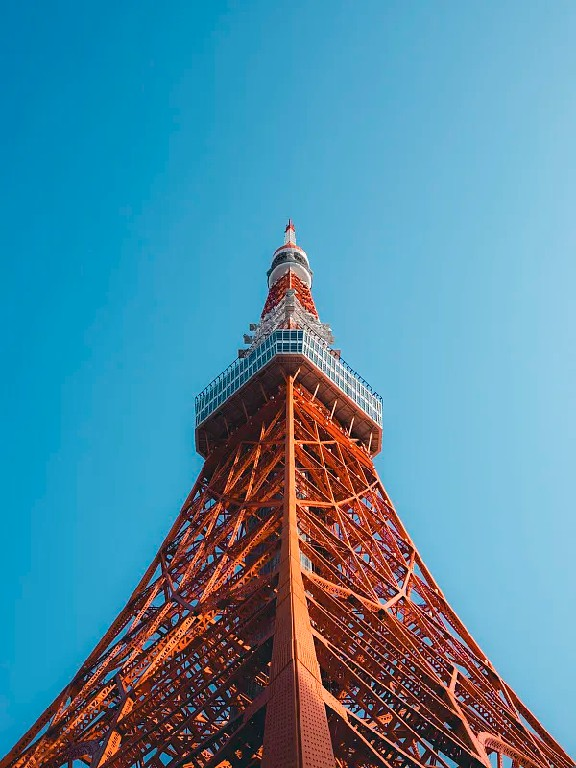Tokyo: (1, 212, 576, 768)
